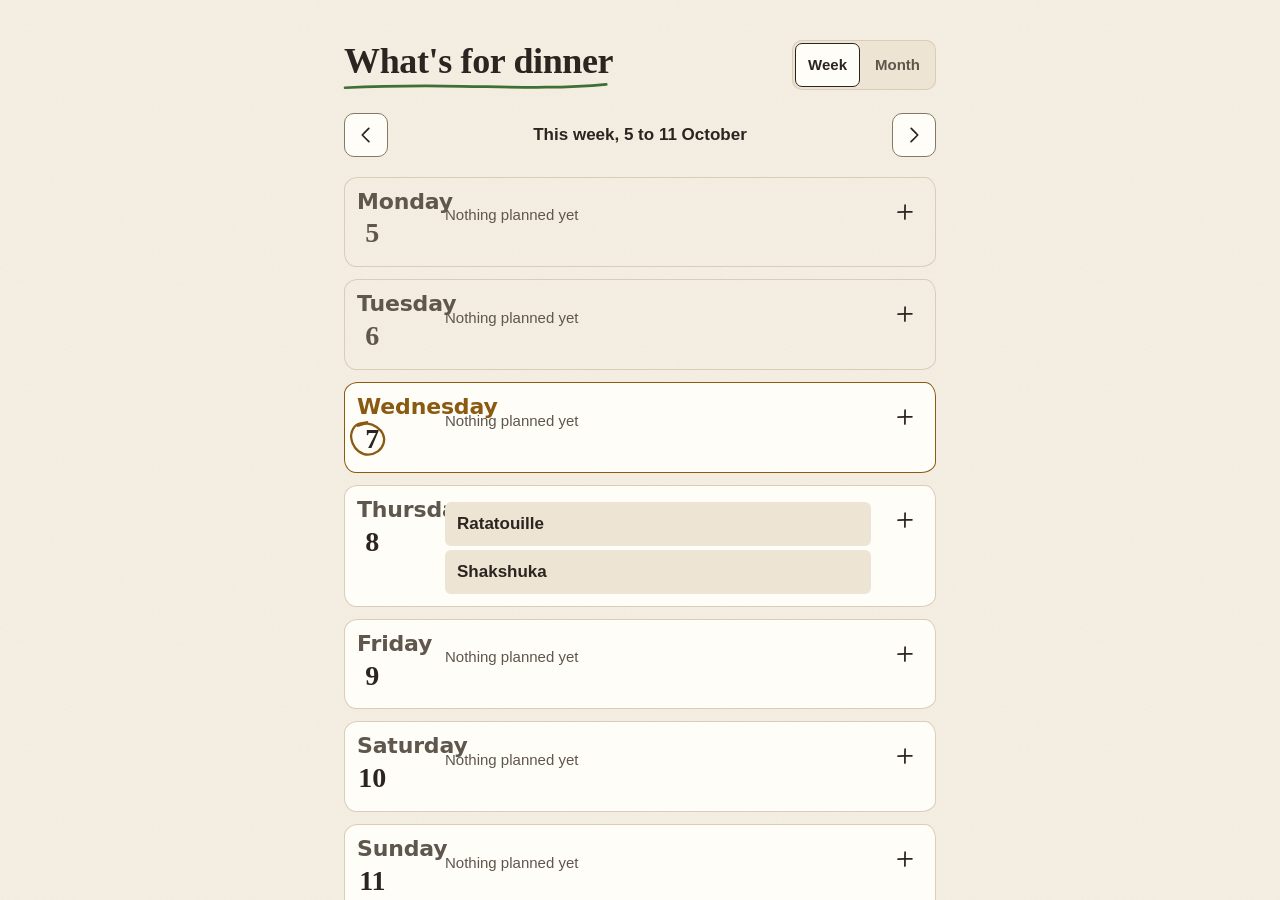
it: WeekScreen › takes a meal off its day
Click the button "Ratatouille" at (500, 523), box [445,502,871,546]
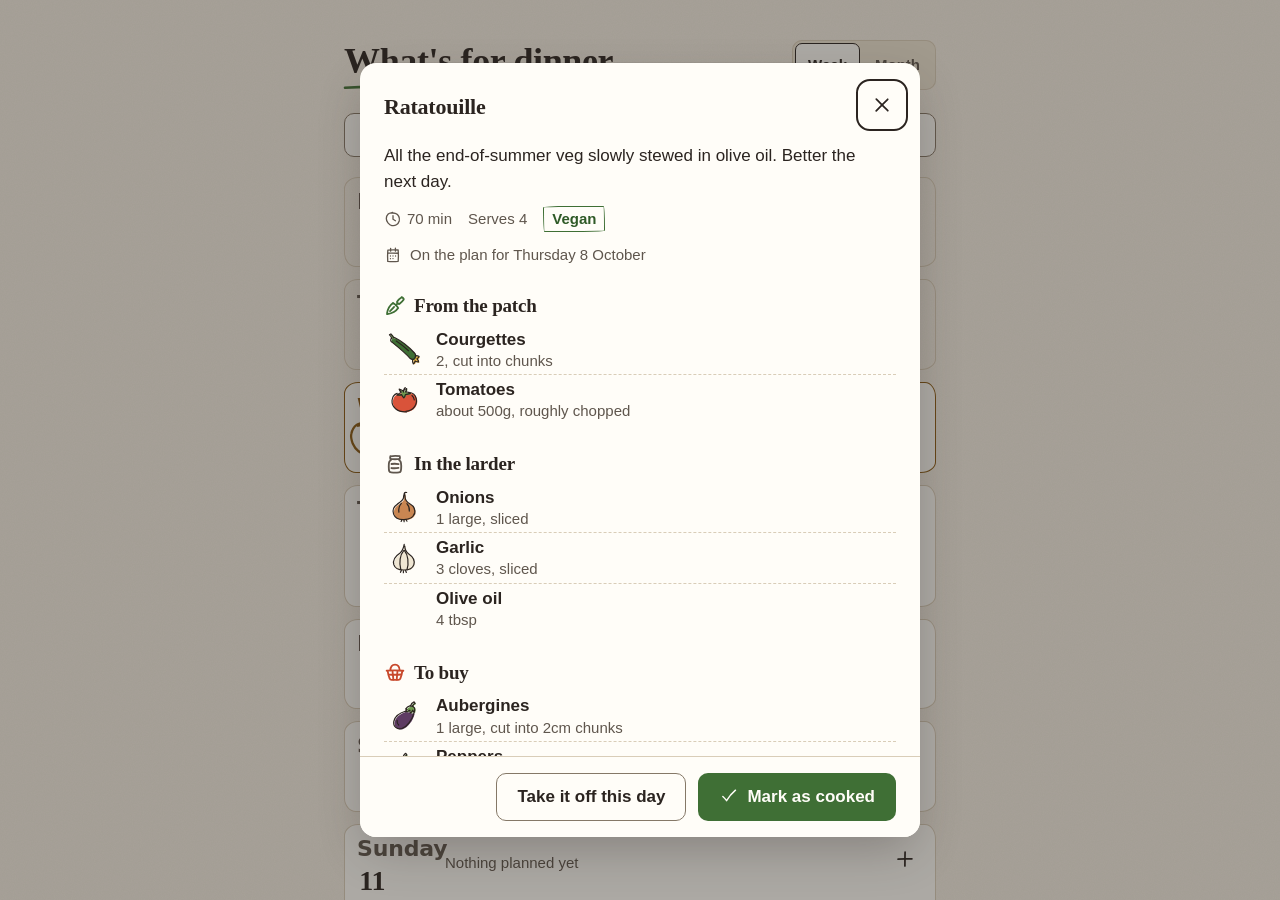
Click the button "Take it off this day" at (591, 797), box [496,773,686,821]
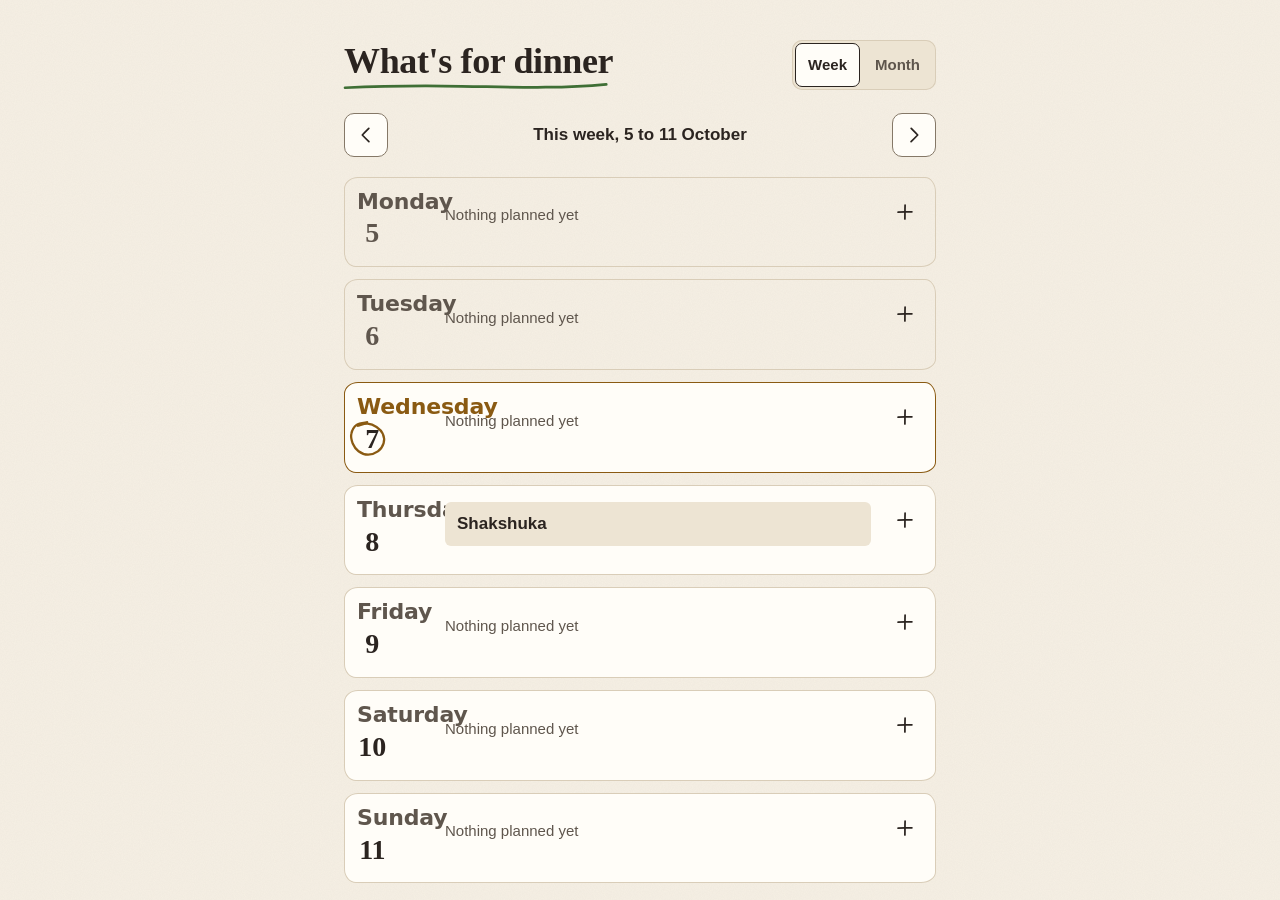
Expected: the button "Ratatouille" is gone
